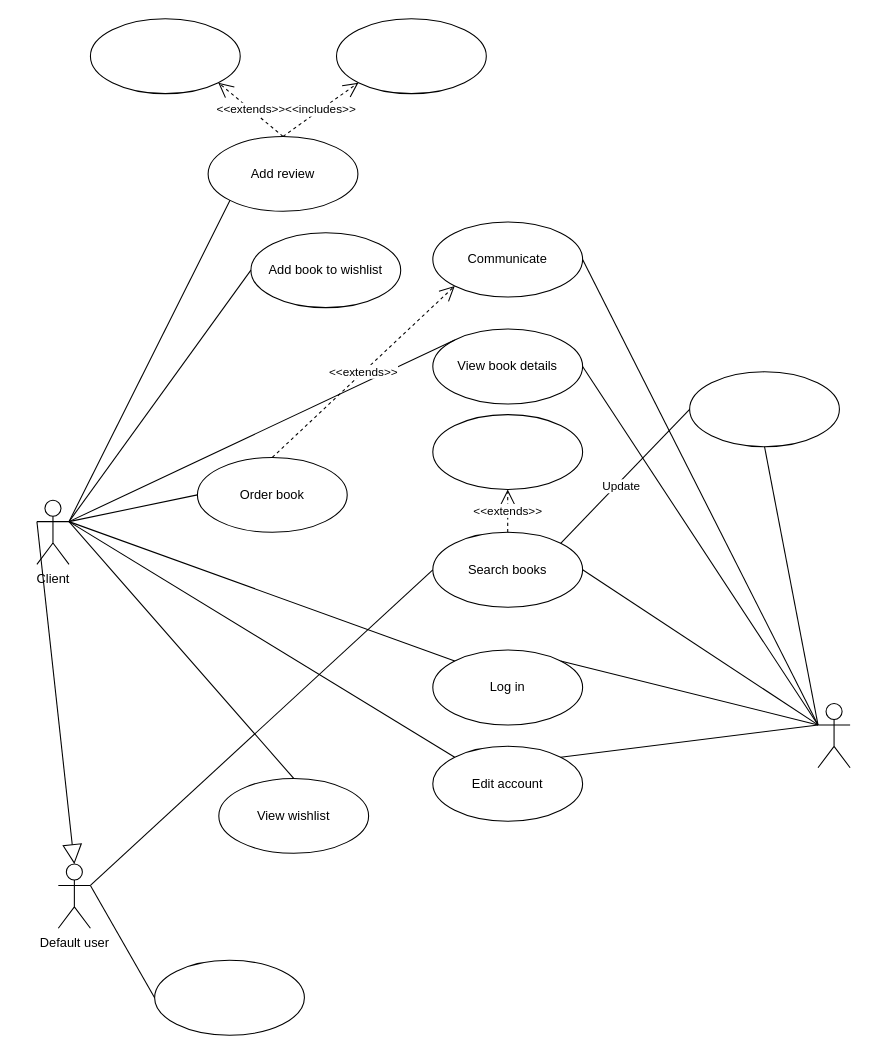
Some shapes in this 885 by 1054 pixel diagram are drawn without their labels. The box of each missing label's shape, as (x1, y1, x2, y2) in pixels:
Add message: (89, 18, 240, 94)
Add rating: (335, 18, 486, 94)
Add searching criteria: (432, 414, 583, 490)
Book agent: (817, 702, 850, 768)
Create account: (154, 959, 304, 1035)
Edit B ookList: (689, 371, 839, 447)
